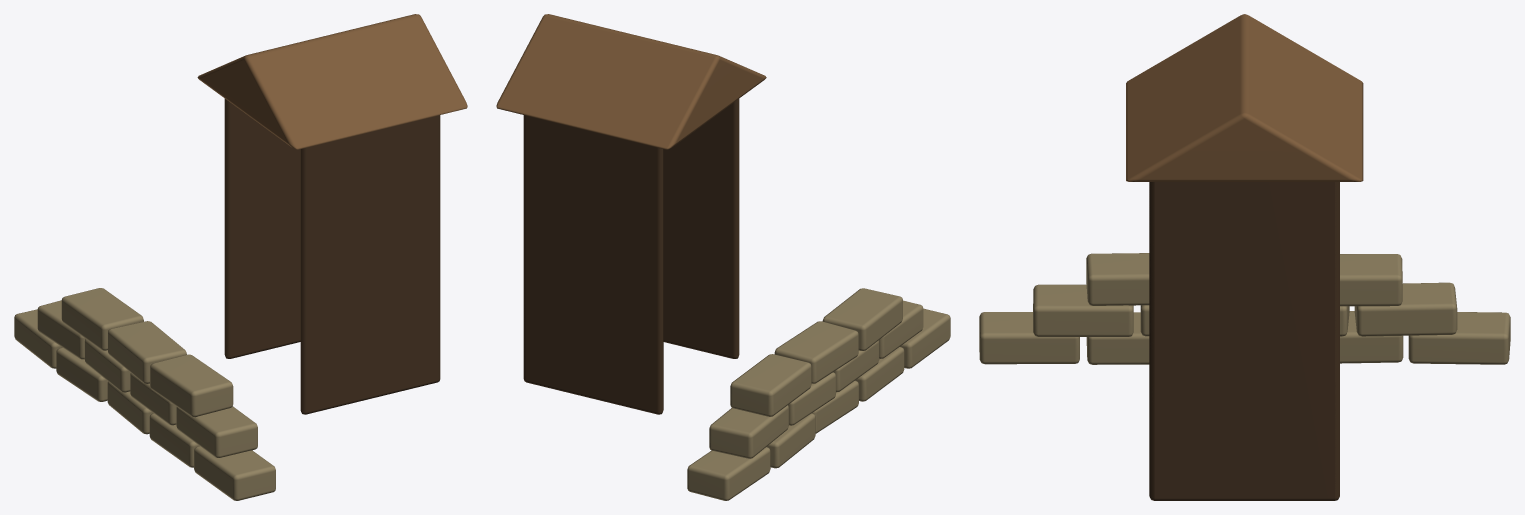
Rendered from wachtpost.glb.
3 renders of one model, left to right at view 1: azimuth 30°, elevation 25°; view 2: azimuth 150°, elevation 25°; view 3: azimuth 270°, elevation 25°, orthographic. The views are drawn at different scales.
Parts seen in each view (by area): view 1: Wachtpost; view 2: Wachtpost; view 3: Wachtpost.
Part boxes in pixels (box(x1,y1,x2,y2)): Wachtpost: box(14, 14, 467, 500); Wachtpost: box(496, 14, 950, 500); Wachtpost: box(979, 14, 1510, 500).
Bounding box in the file's own units: 2.38 × 2.54 × 3.07.
